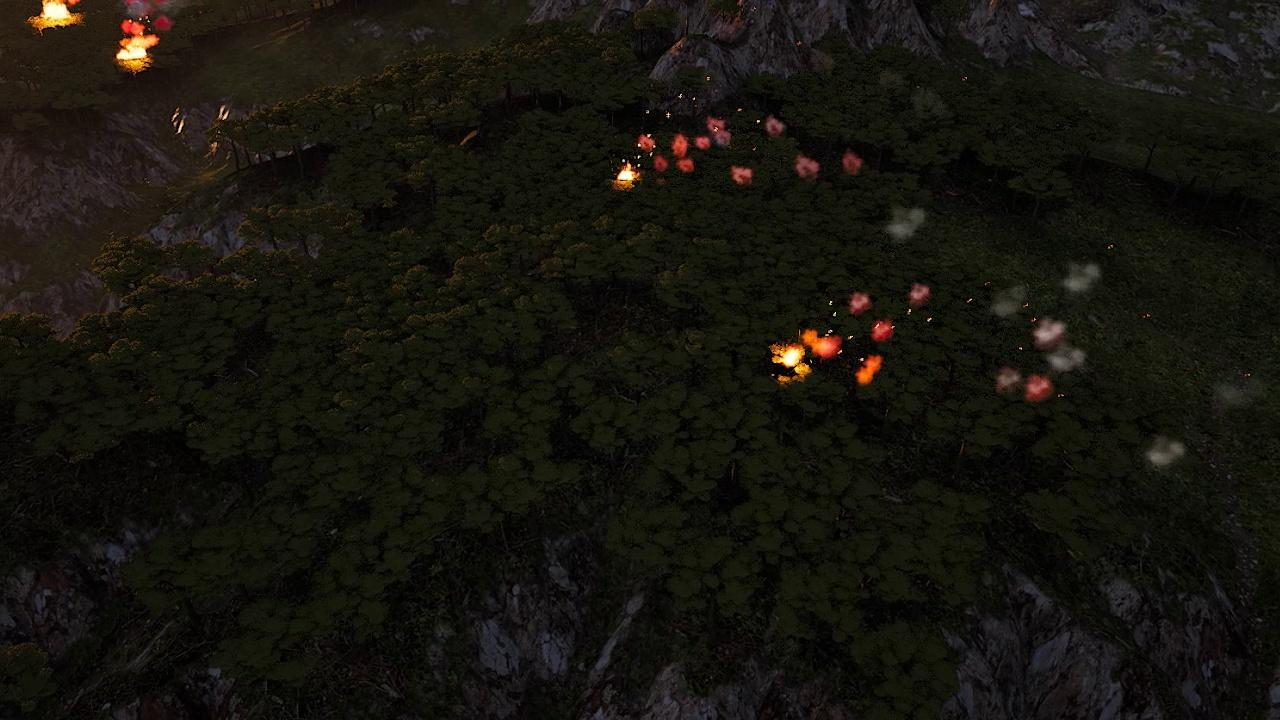fire: (768, 329, 840, 382), (117, 31, 159, 65), (38, 0, 74, 25), (616, 165, 639, 184), (1109, 242, 1117, 250)
smoke: (992, 254, 1102, 402), (841, 281, 929, 388), (640, 116, 787, 179), (119, 0, 206, 26), (796, 149, 867, 179), (887, 206, 928, 243), (1143, 437, 1184, 470), (729, 166, 751, 183)
